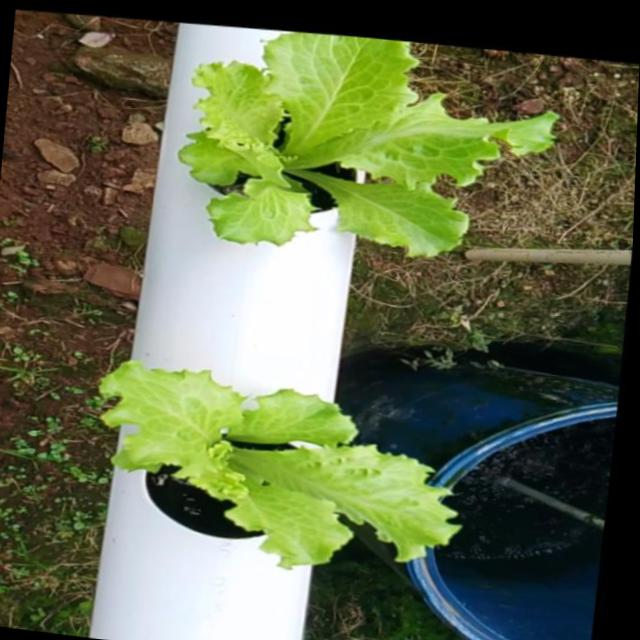Baby: (186, 33, 562, 274), (108, 384, 476, 595)
